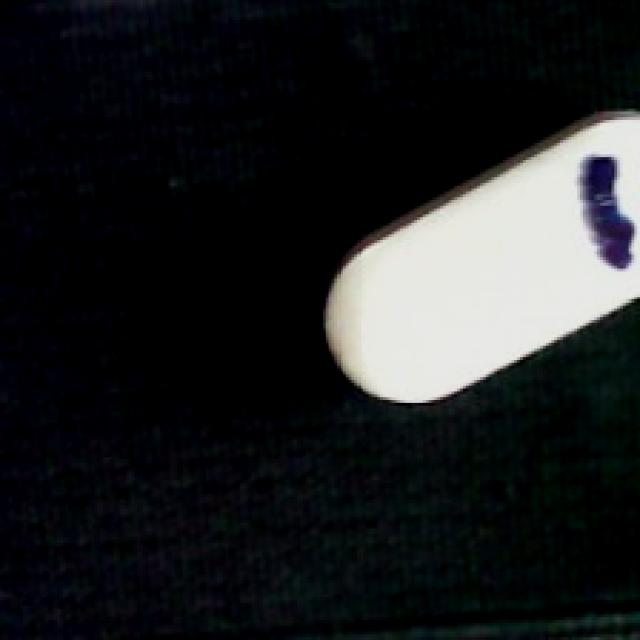defected: (317, 103, 640, 414)
